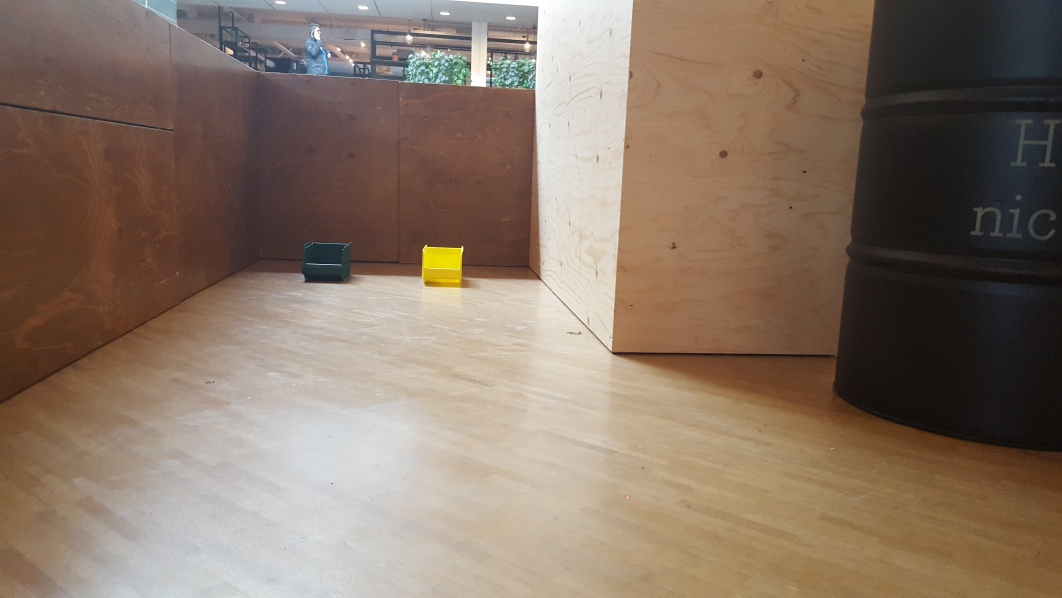tray: (299, 240, 352, 282), (420, 243, 467, 288)
